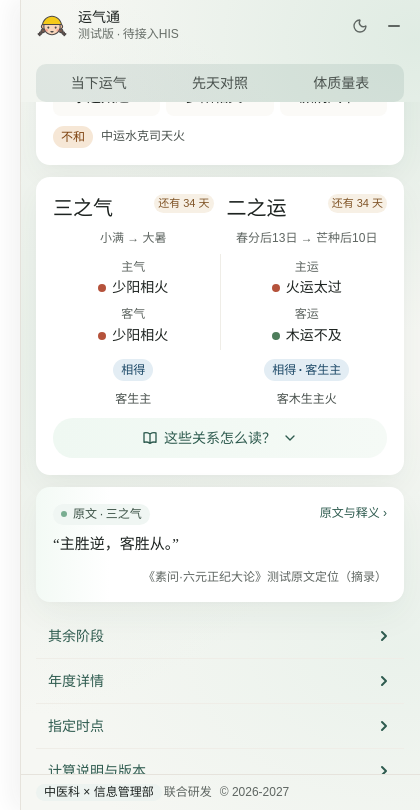
Scenario: CurrentYunQiPage › uses book-title source rows and keeps the teaching notice in calculation details
This screenshot has width=420, height=810.
(page scrolled)
Click the heading "这些关系怎么读？".
click(220, 438)  # box [53,418,387,458]
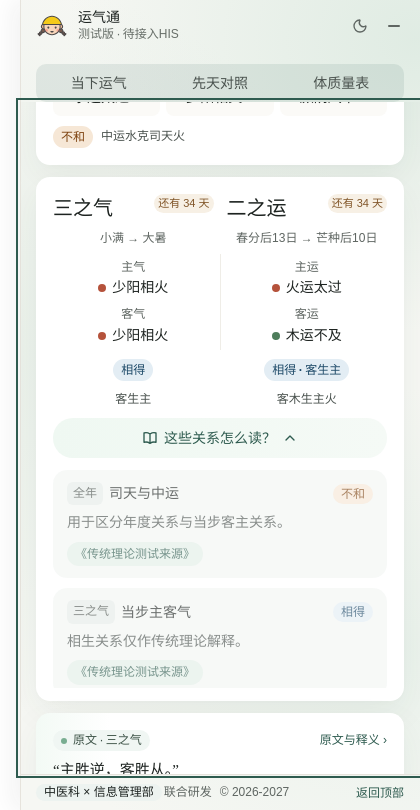
Check: the number of elements titled "《传统理论测试来源》" is 2, box [67,542,203,566]; [67,660,203,685]
Check: the text titled "《传统理论测试来源》" below "用于区分年度关系与当步客主关系。" is shown, box [75,547,195,561]
Check: the text titled "《传统理论测试来源》" below "相生关系仅作传统理论解释。" is shown, box [75,665,195,679]
